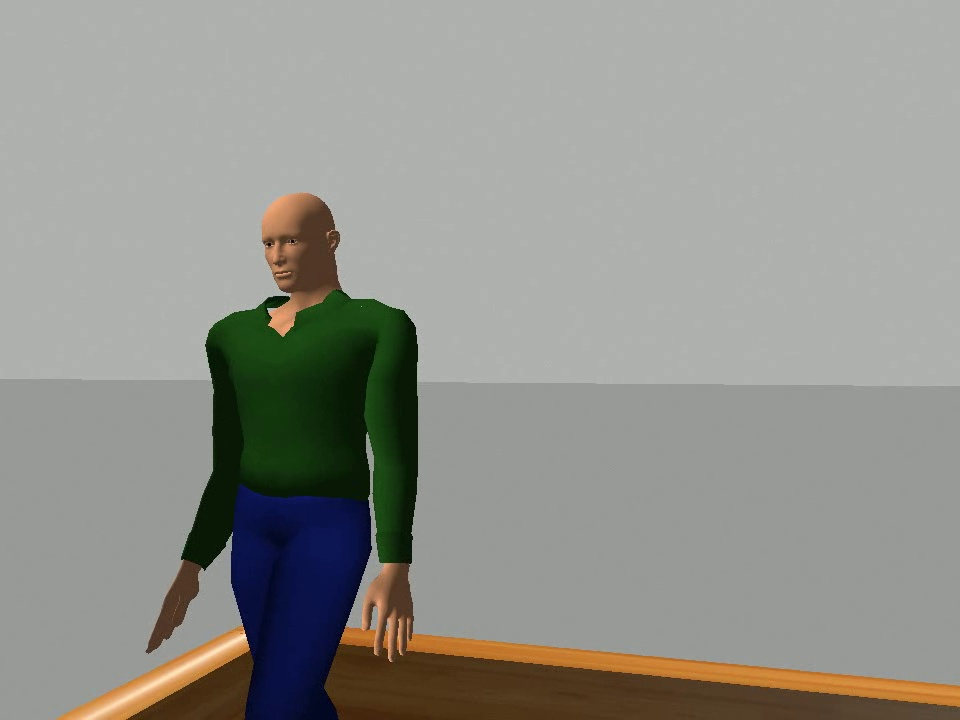person: (142, 188, 426, 720)
